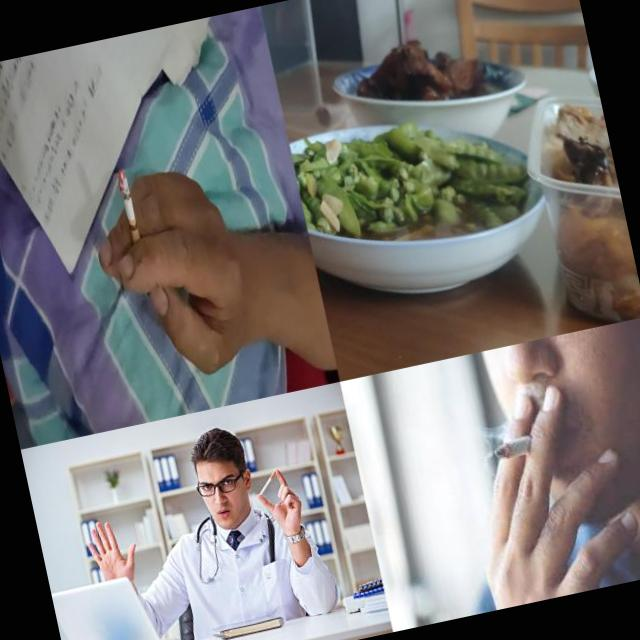smoke: (114, 166, 145, 262), (492, 430, 556, 461), (254, 468, 282, 495)
